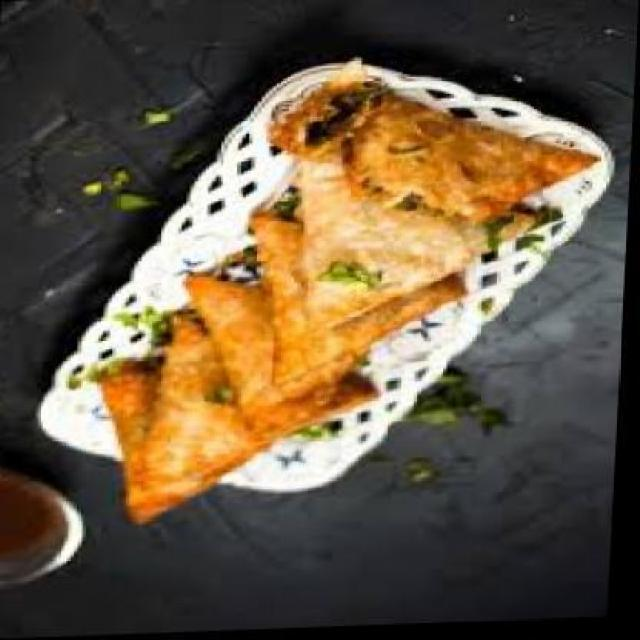samosa: (100, 308, 389, 523), (263, 51, 608, 229), (292, 151, 565, 332), (244, 209, 476, 386), (180, 268, 380, 424)
